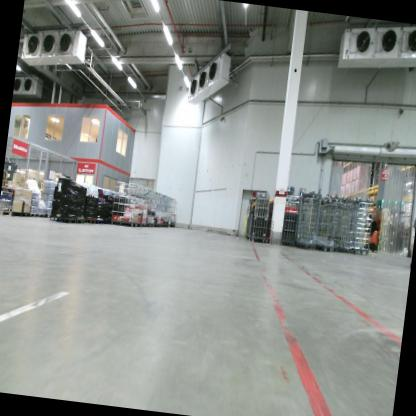pallet: (0, 210, 12, 217)
pallet_truck: (359, 213, 392, 254)
